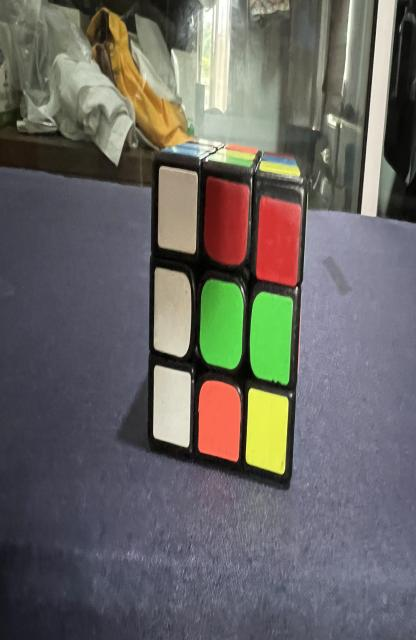Green: (200, 278, 244, 370), (250, 292, 293, 385)
Orange: (198, 380, 240, 462)
Red: (256, 197, 301, 287), (204, 177, 249, 265)
White: (158, 165, 198, 255), (154, 267, 192, 357), (153, 365, 191, 448)
Yellow: (245, 388, 288, 475)
